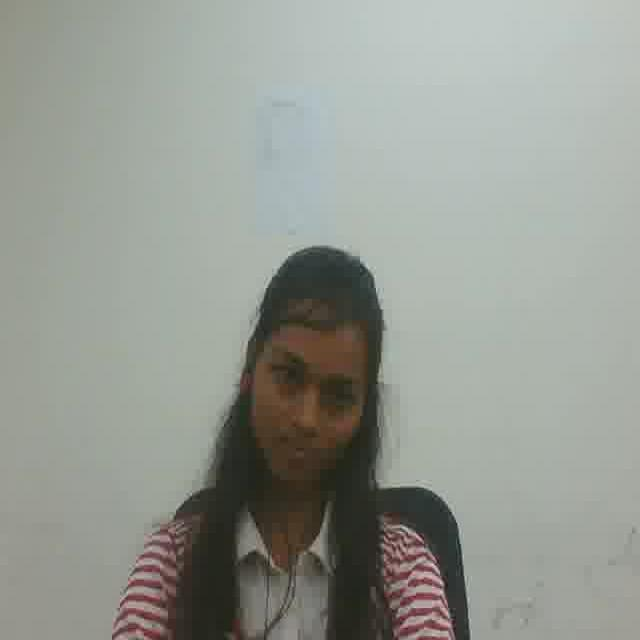Boredom: (254, 316, 361, 492)
